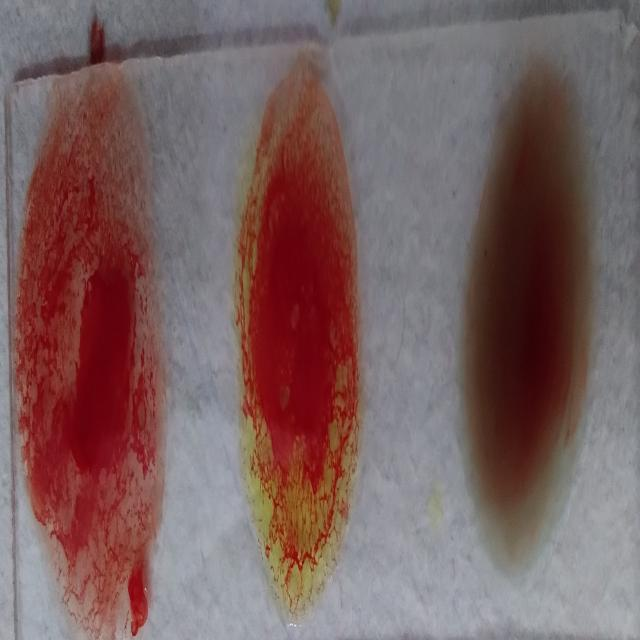B: (234, 69, 360, 624)
D: (17, 91, 165, 640)
